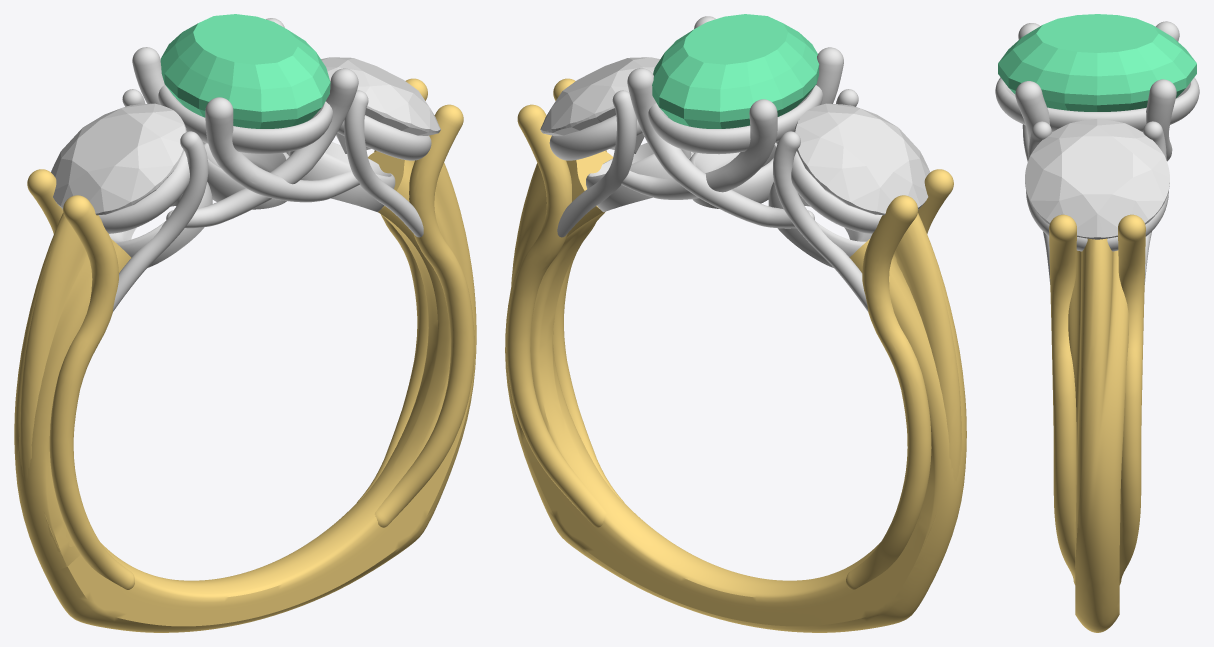
The model's file is BlaineYGPTV2eng.glb.
3 views of the same model, side by side, from view 1: azimuth 30°, elevation 25°; view 2: azimuth 150°, elevation 25°; view 3: azimuth 270°, elevation 25° (orthographic). The views are drawn at different scales.
Visible parts, largest first — view 1: V2 Blaine YG for 3d model, V2 Blaine PT for 3d model, Blaine garnet for 3d model, Blaine dia for 3d model.001, Blaine dia for 3d model; view 2: V2 Blaine YG for 3d model, V2 Blaine PT for 3d model, Blaine garnet for 3d model, Blaine dia for 3d model.001, Blaine dia for 3d model; view 3: V2 Blaine YG for 3d model, Blaine garnet for 3d model, Blaine dia for 3d model, V2 Blaine PT for 3d model.
Part boxes in pixels (left/top/right/bottom): V2 Blaine YG for 3d model: left=14, top=78, right=476, bottom=632; V2 Blaine PT for 3d model: left=62, top=18, right=431, bottom=311; Blaine garnet for 3d model: left=160, top=14, right=330, bottom=128; Blaine dia for 3d model.001: left=51, top=103, right=186, bottom=215; Blaine dia for 3d model: left=321, top=57, right=440, bottom=153; V2 Blaine YG for 3d model: left=505, top=78, right=966, bottom=632; V2 Blaine PT for 3d model: left=549, top=16, right=918, bottom=311; Blaine garnet for 3d model: left=652, top=14, right=819, bottom=128; Blaine dia for 3d model.001: left=794, top=103, right=930, bottom=215; Blaine dia for 3d model: left=540, top=57, right=660, bottom=153; V2 Blaine YG for 3d model: left=1049, top=214, right=1145, bottom=632; Blaine garnet for 3d model: left=998, top=14, right=1196, bottom=111; Blaine dia for 3d model: left=1025, top=119, right=1169, bottom=239; V2 Blaine PT for 3d model: left=995, top=21, right=1199, bottom=284.
Size of the model in its own units: 20.5 by 25.08 by 8.3.
